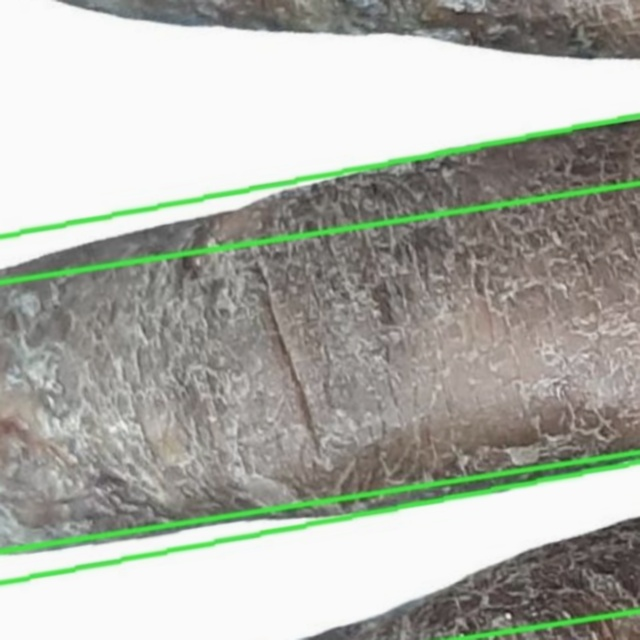Eczema: (0, 115, 639, 582), (0, 0, 639, 282), (0, 452, 639, 639)
